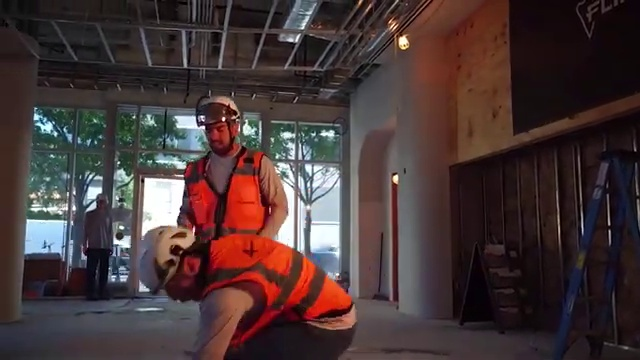helmet: (139, 224, 197, 305), (187, 100, 279, 129)
jacket: (200, 233, 375, 333), (177, 151, 266, 228)
